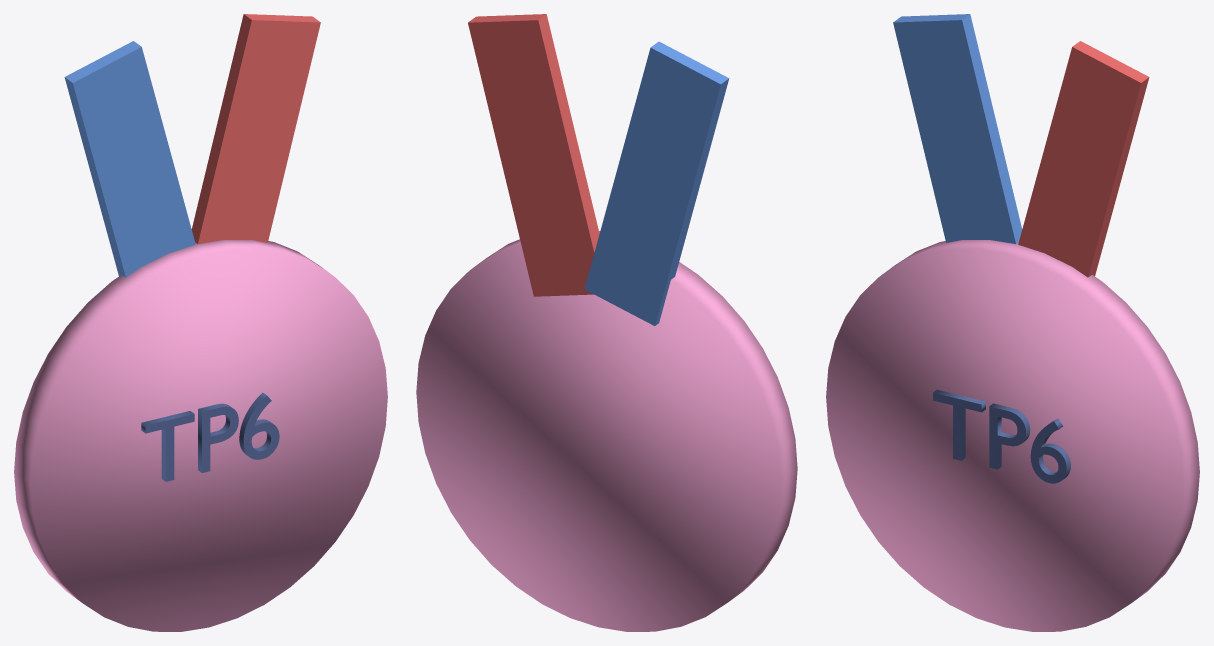
The model's file is ui_medal_tp6.glb.
3 views of the same model, side by side, from view 1: azimuth 30°, elevation 25°; view 2: azimuth 150°, elevation 25°; view 3: azimuth 330°, elevation 25° (orthographic).
Parts seen in each view (by area): view 1: medal_disc, medal_ribbon1, medal_ribbon0, medal_num; view 2: medal_disc, medal_ribbon1, medal_ribbon0; view 3: medal_disc, medal_ribbon0, medal_ribbon1, medal_num.
Boxes of the visible parts, x1=… form: medal_disc: x1=14, y1=240, x2=387, y2=631; medal_ribbon1: x1=191, y1=14, x2=320, y2=243; medal_ribbon0: x1=64, y1=41, x2=195, y2=277; medal_num: x1=141, y1=392, x2=279, y2=481; medal_disc: x1=416, y1=231, x2=797, y2=631; medal_ribbon1: x1=468, y1=14, x2=599, y2=296; medal_ribbon0: x1=584, y1=41, x2=729, y2=325; medal_disc: x1=826, y1=240, x2=1199, y2=631; medal_ribbon0: x1=893, y1=14, x2=1022, y2=243; medal_ribbon1: x1=1018, y1=41, x2=1149, y2=277; medal_num: x1=933, y1=389, x2=1070, y2=483.
Size of the model in its own units: 0.05 by 0.0782 by 0.006.
